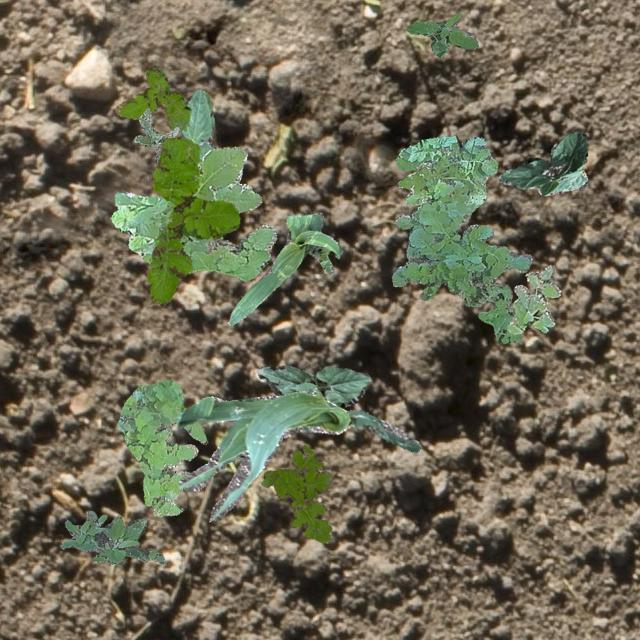crop: (173, 388, 420, 520), (226, 212, 342, 324), (498, 130, 586, 194), (256, 364, 370, 406), (178, 89, 216, 162)
weed: (390, 134, 530, 342), (110, 146, 276, 280), (146, 137, 238, 306), (117, 378, 206, 516), (260, 443, 332, 542), (58, 510, 164, 562), (114, 66, 190, 130), (506, 264, 560, 334), (407, 12, 478, 56), (132, 108, 178, 162)
